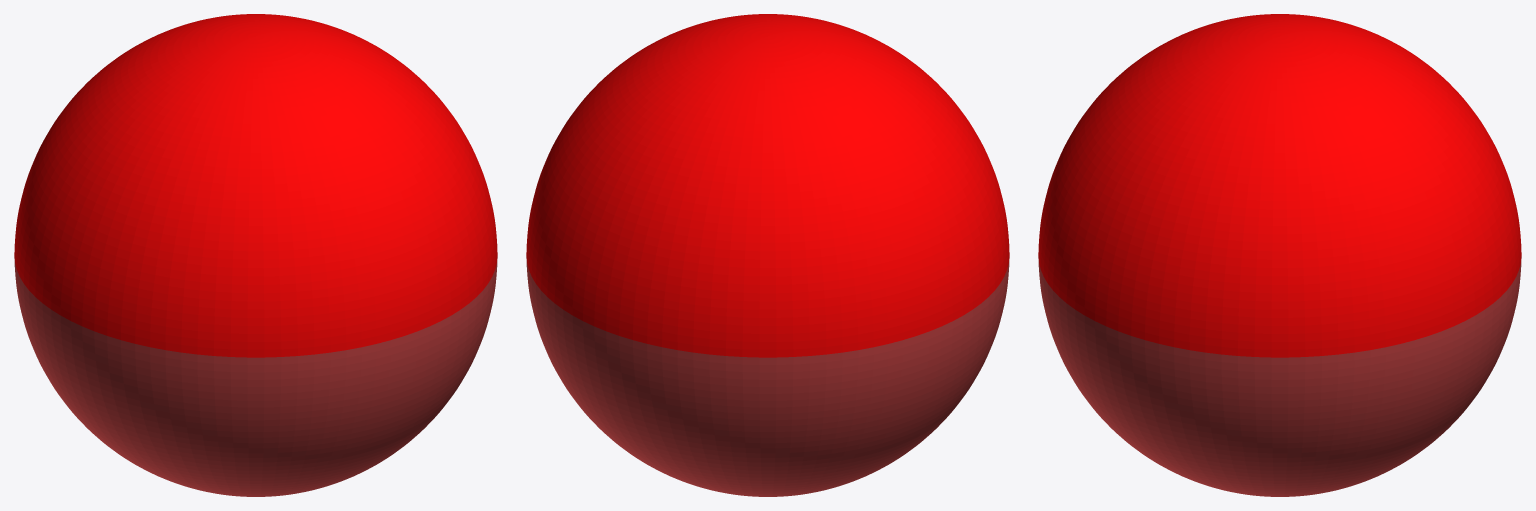
Rendered from glball.obj.
The picture shows the model from 3 angles, left to right: view 1: azimuth 30°, elevation 25°; view 2: azimuth 150°, elevation 25°; view 3: azimuth 270°, elevation 25°; orthographic projection.
Visible parts, largest first — view 1: Top, Bottom; view 2: Top, Bottom; view 3: Top, Bottom.
Part boxes in pixels (x1,y1,x2,y2): Top: (14, 14, 497, 357); Bottom: (14, 256, 497, 496); Top: (526, 14, 1009, 357); Bottom: (526, 256, 1009, 496); Top: (1038, 14, 1521, 357); Bottom: (1038, 256, 1521, 496).
Size of the model in its own units: 2 by 2 by 2.
2 materials, 2 textured.
